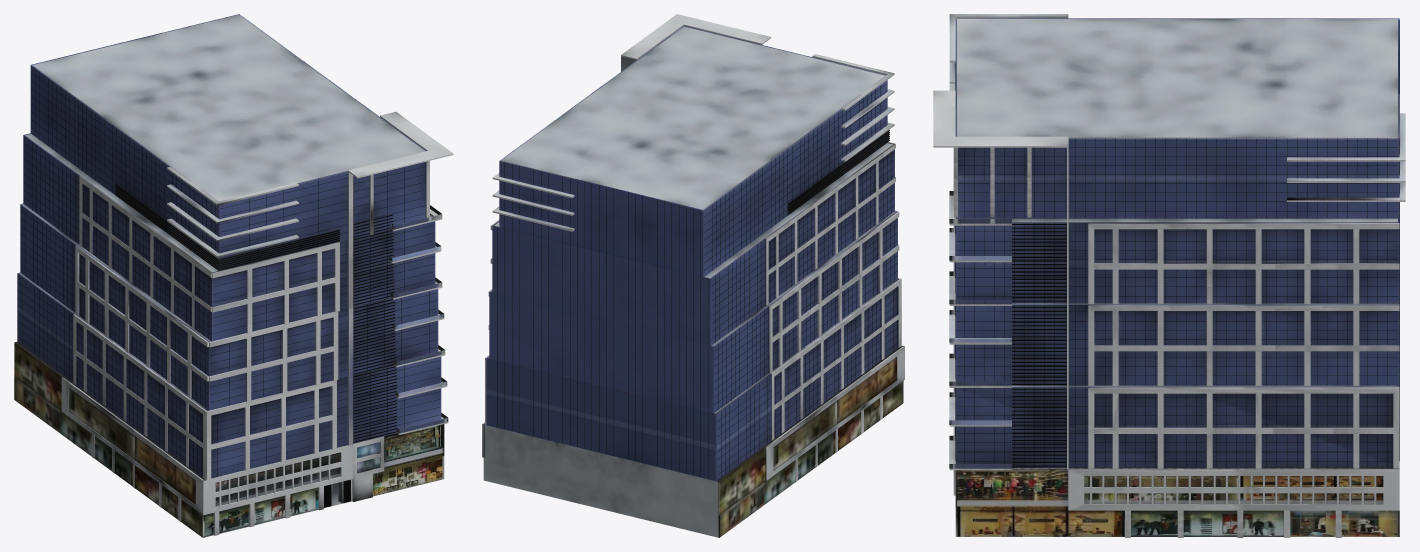
The model's file is sadang.optimized.glb.
3 renders of one model, left to right at view 1: azimuth 30°, elevation 25°; view 2: azimuth 150°, elevation 25°; view 3: azimuth 270°, elevation 25°, orthographic. The views are drawn at different scales.
Visible parts, largest first — view 1: Object006_Object006_mtl_0, Object008_Object008_mtl_0, Object007_Object007_mtl_0, Object005_Object005_mtl_0, Object004_Object004_mtl_0, Object002_Object002_mtl_0, Object003_Object003_mtl_0; view 2: Object006_Object006_mtl_0, Object008_Object008_mtl_0, Object007_Object007_mtl_0, Object005_Object005_mtl_0, Object004_Object004_mtl_0, Object003_Object003_mtl_0, Object002_Object002_mtl_0; view 3: Object006_Object006_mtl_0, Object007_Object007_mtl_0, Object005_Object005_mtl_0, Object004_Object004_mtl_0, Object008_Object008_mtl_0, Object003_Object003_mtl_0, Object002_Object002_mtl_0.
Part boxes in pixels (x1,y1,x2,y2): Object006_Object006_mtl_0: (23, 15, 435, 341); Object008_Object008_mtl_0: (14, 68, 447, 536); Object007_Object007_mtl_0: (30, 14, 453, 514); Object005_Object005_mtl_0: (20, 134, 438, 410); Object004_Object004_mtl_0: (17, 204, 441, 478); Object002_Object002_mtl_0: (16, 161, 448, 479); Object003_Object003_mtl_0: (14, 273, 444, 537); Object006_Object006_mtl_0: (492, 26, 894, 345); Object008_Object008_mtl_0: (497, 84, 904, 537); Object007_Object007_mtl_0: (482, 14, 904, 457); Object005_Object005_mtl_0: (489, 143, 897, 413); Object004_Object004_mtl_0: (486, 211, 899, 480); Object003_Object003_mtl_0: (483, 279, 903, 537); Object002_Object002_mtl_0: (492, 54, 901, 480); Object006_Object006_mtl_0: (955, 19, 1399, 303); Object007_Object007_mtl_0: (933, 18, 1399, 510); Object005_Object005_mtl_0: (955, 218, 1399, 385); Object004_Object004_mtl_0: (955, 303, 1399, 467); Object008_Object008_mtl_0: (949, 20, 1399, 537); Object003_Object003_mtl_0: (955, 385, 1399, 536); Object002_Object002_mtl_0: (949, 14, 1405, 470).
Size of the model in its own units: 49.92 by 65.23 by 71.32.
Materials: 8 (8 with a texture image).
